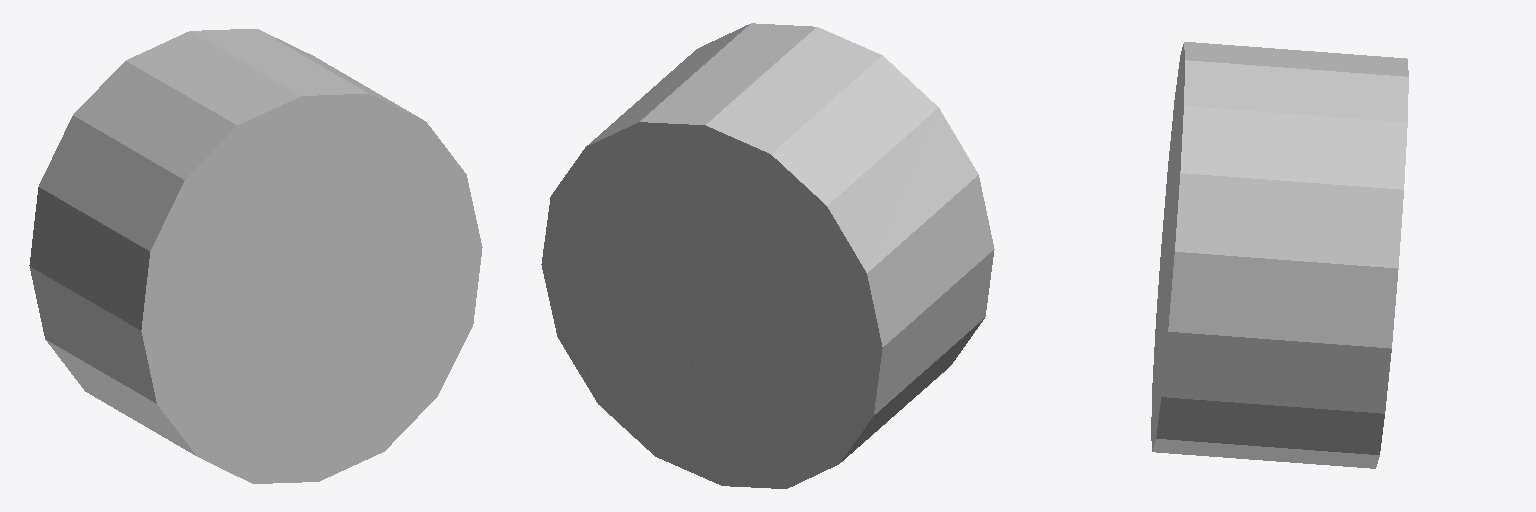
Rendered from original-237.obj.
3 views of the same model, side by side, from view 1: azimuth 30°, elevation 25°; view 2: azimuth 150°, elevation 25°; view 3: azimuth 270°, elevation 25° (orthographic).
Visible parts, largest first — view 1: #ID1363; view 2: #ID1363; view 3: #ID1363.
Part boxes in pixels (left/top/right/bottom): #ID1363: left=29, top=29, right=482, bottom=483; #ID1363: left=541, top=23, right=994, bottom=488; #ID1363: left=1151, top=42, right=1408, bottom=468.
Size of the model in its own units: 0.0014 by 0.0015 by 0.0009.